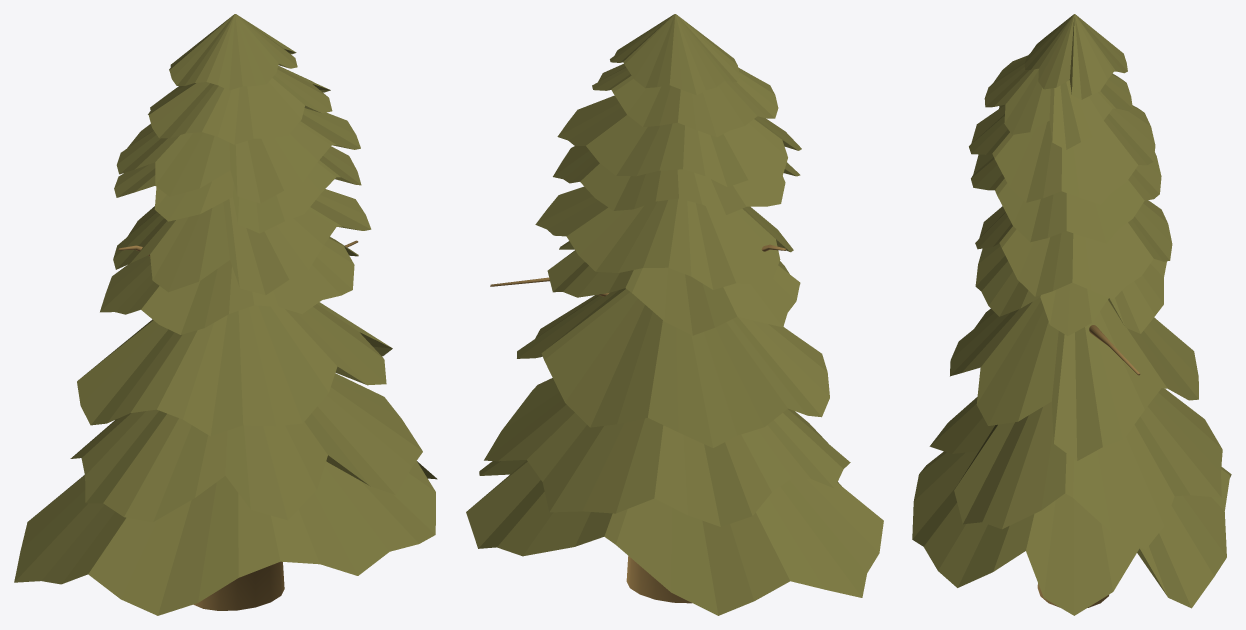
Rendered from ANOTHER TREE.fbx.
3 renders of one model, left to right at view 1: azimuth 30°, elevation 25°; view 2: azimuth 150°, elevation 25°; view 3: azimuth 270°, elevation 25°, orthographic.
Parts seen in each view (by area): view 1: Cylinder; view 2: Cylinder; view 3: Cylinder.
Part boxes in pixels (<box>): Cylinder: <box>14,14,437,615</box>; Cylinder: <box>466,14,883,615</box>; Cylinder: <box>912,14,1231,615</box>.
Bounding box in the file's own units: 864 × 1710 × 1248.
